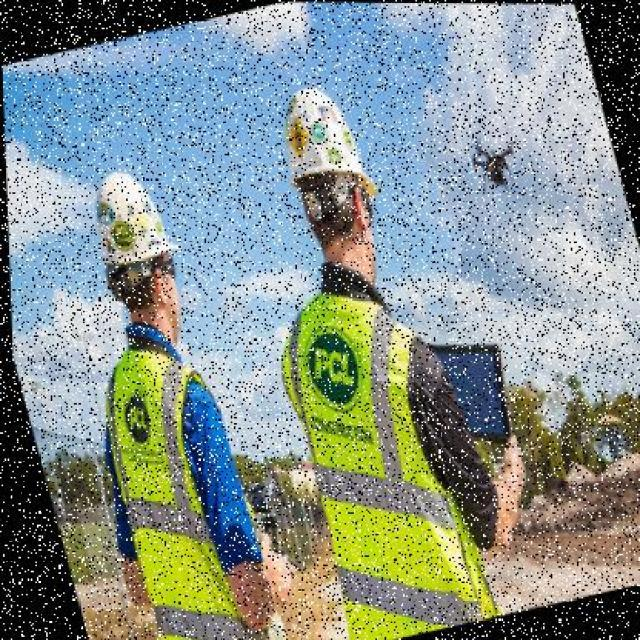helmet: (263, 80, 379, 220), (80, 159, 186, 275)
vest: (263, 260, 497, 638), (86, 333, 272, 640)
